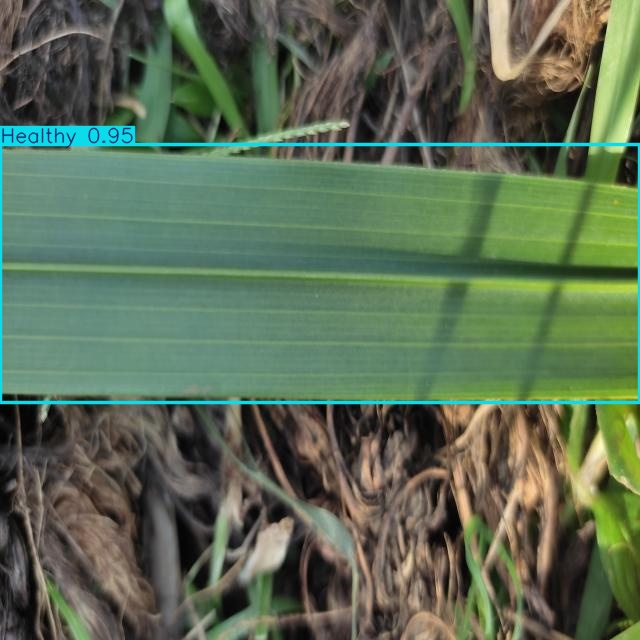Healthy: (0, 145, 640, 402)
